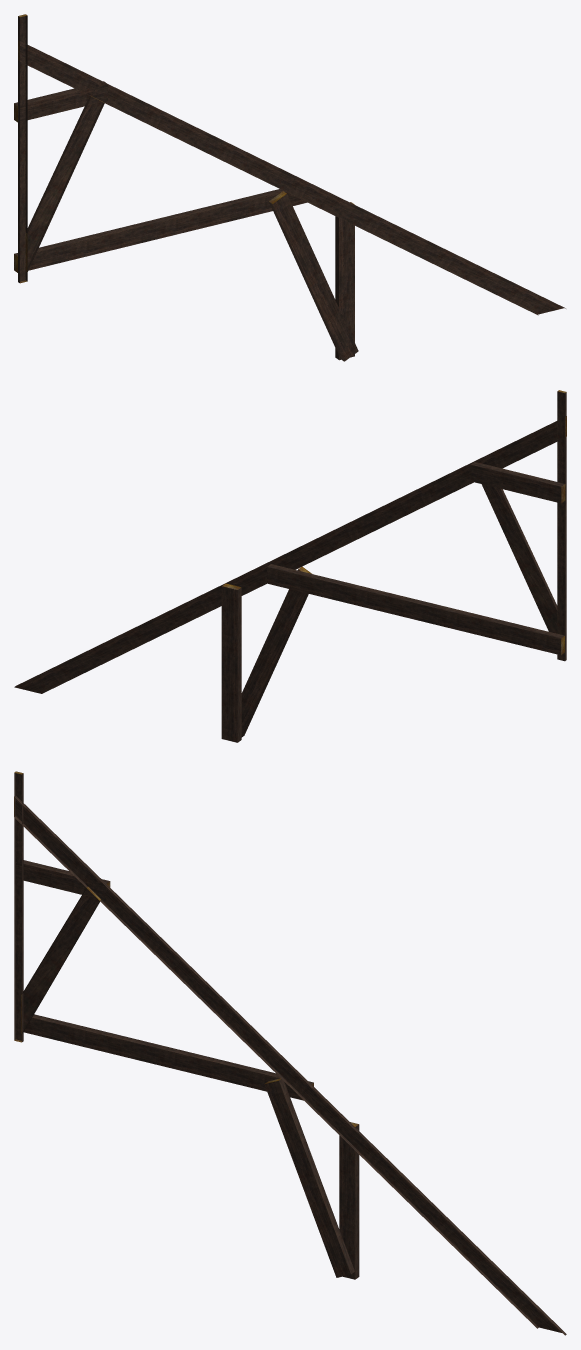
The model's file is attic_spant_03.DAE.
3 renders of one model, top to bottom at view 1: azimuth 30°, elevation 25°; view 2: azimuth 150°, elevation 25°; view 3: azimuth 330°, elevation 25°, orthographic.
Parts seen in each view (by area): view 1: Box047; view 2: Box047; view 3: Box047.
Boxes of the visible parts, box(x1,y1,x2,y2) form: Box047: box(14, 14, 565, 361); Box047: box(14, 390, 566, 742); Box047: box(14, 771, 566, 1335).
Bounding box in the file's own units: 13.87 × 10.3 × 0.3512.
